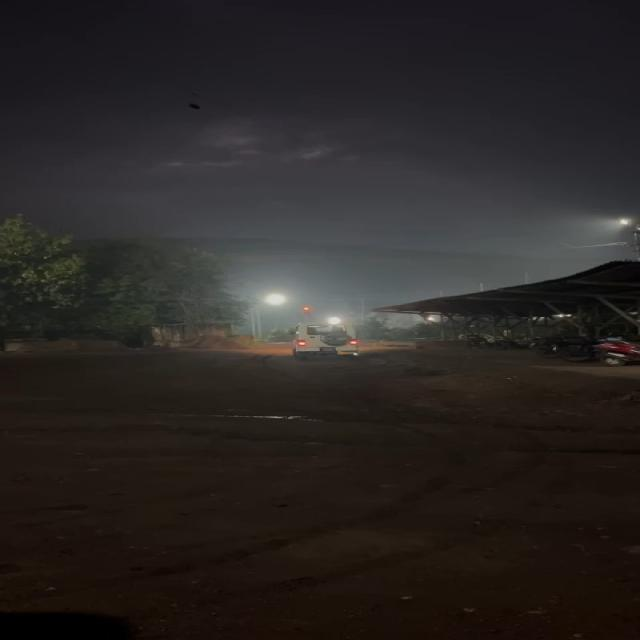light_vehicle: (292, 321, 361, 359)
